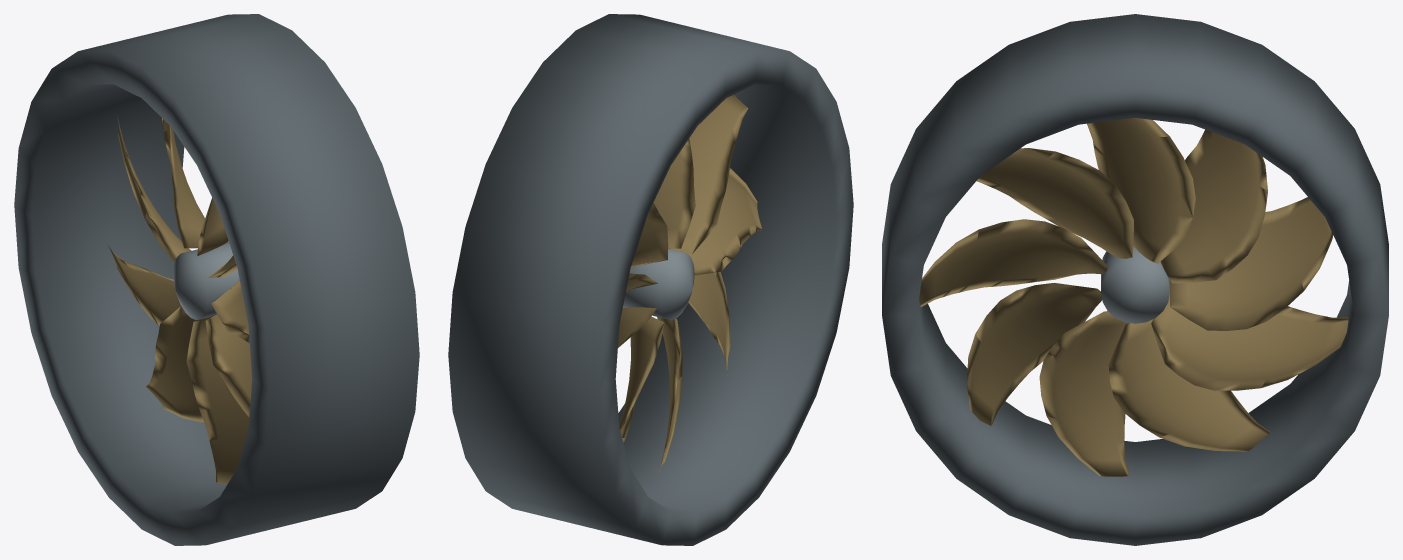
File: THRUSTER_RIM_DRIVEN_LOD1.fbx
3 renders of one model, left to right at view 1: azimuth 30°, elevation 25°; view 2: azimuth 150°, elevation 25°; view 3: azimuth 270°, elevation 25°, orthographic.
Parts seen in each view (by area): view 1: THRUSTER_RIM_DRIVEN_LOD1_Duct.001, THRUSTER_RIM_DRIVEN_LOD1_Impeller_06.001, THRUSTER_RIM_DRIVEN_LOD1_Impeller_07.001, THRUSTER_RIM_DRIVEN_LOD1_Hub.001, THRUSTER_RIM_DRIVEN_LOD1_Impeller_05.001, THRUSTER_RIM_DRIVEN_LOD1_Impeller_08.001, THRUSTER_RIM_DRIVEN_LOD1_Impeller_01.001, THRUSTER_RIM_DRIVEN_LOD1_Impeller_00.001, THRUSTER_RIM_DRIVEN_LOD1_Impeller_04.001, THRUSTER_RIM_DRIVEN_LOD1_Impeller_02.001; view 2: THRUSTER_RIM_DRIVEN_LOD1_Duct.001, THRUSTER_RIM_DRIVEN_LOD1_Impeller_03.001, THRUSTER_RIM_DRIVEN_LOD1_Impeller_04.001, THRUSTER_RIM_DRIVEN_LOD1_Hub.001, THRUSTER_RIM_DRIVEN_LOD1_Impeller_02.001, THRUSTER_RIM_DRIVEN_LOD1_Impeller_05.001, THRUSTER_RIM_DRIVEN_LOD1_Impeller_07.001, THRUSTER_RIM_DRIVEN_LOD1_Impeller_06.001, THRUSTER_RIM_DRIVEN_LOD1_Impeller_01.001, THRUSTER_RIM_DRIVEN_LOD1_Impeller_08.001; view 3: THRUSTER_RIM_DRIVEN_LOD1_Duct.001, THRUSTER_RIM_DRIVEN_LOD1_Impeller_08.001, THRUSTER_RIM_DRIVEN_LOD1_Impeller_00.001, THRUSTER_RIM_DRIVEN_LOD1_Impeller_07.001, THRUSTER_RIM_DRIVEN_LOD1_Impeller_01.001, THRUSTER_RIM_DRIVEN_LOD1_Impeller_06.001, THRUSTER_RIM_DRIVEN_LOD1_Impeller_05.001, THRUSTER_RIM_DRIVEN_LOD1_Impeller_02.001, THRUSTER_RIM_DRIVEN_LOD1_Impeller_04.001, THRUSTER_RIM_DRIVEN_LOD1_Impeller_03.001, THRUSTER_RIM_DRIVEN_LOD1_Hub.001.
Part boxes in pixels (x1,y1,x2,y2): THRUSTER_RIM_DRIVEN_LOD1_Duct.001: [14, 14, 419, 545]; THRUSTER_RIM_DRIVEN_LOD1_Impeller_06.001: [186, 317, 249, 484]; THRUSTER_RIM_DRIVEN_LOD1_Impeller_07.001: [145, 306, 213, 422]; THRUSTER_RIM_DRIVEN_LOD1_Hub.001: [173, 241, 239, 319]; THRUSTER_RIM_DRIVEN_LOD1_Impeller_05.001: [205, 314, 252, 417]; THRUSTER_RIM_DRIVEN_LOD1_Impeller_08.001: [107, 243, 181, 325]; THRUSTER_RIM_DRIVEN_LOD1_Impeller_01.001: [162, 118, 204, 248]; THRUSTER_RIM_DRIVEN_LOD1_Impeller_00.001: [117, 115, 191, 261]; THRUSTER_RIM_DRIVEN_LOD1_Impeller_04.001: [211, 279, 249, 342]; THRUSTER_RIM_DRIVEN_LOD1_Impeller_02.001: [197, 198, 228, 255]; THRUSTER_RIM_DRIVEN_LOD1_Duct.001: [448, 14, 853, 545]; THRUSTER_RIM_DRIVEN_LOD1_Impeller_03.001: [670, 94, 748, 254]; THRUSTER_RIM_DRIVEN_LOD1_Impeller_04.001: [688, 168, 762, 275]; THRUSTER_RIM_DRIVEN_LOD1_Hub.001: [623, 249, 694, 319]; THRUSTER_RIM_DRIVEN_LOD1_Impeller_02.001: [653, 138, 695, 248]; THRUSTER_RIM_DRIVEN_LOD1_Impeller_05.001: [688, 272, 730, 375]; THRUSTER_RIM_DRIVEN_LOD1_Impeller_07.001: [619, 316, 664, 442]; THRUSTER_RIM_DRIVEN_LOD1_Impeller_06.001: [657, 317, 682, 476]; THRUSTER_RIM_DRIVEN_LOD1_Impeller_01.001: [630, 202, 668, 268]; THRUSTER_RIM_DRIVEN_LOD1_Impeller_08.001: [618, 307, 656, 347]; THRUSTER_RIM_DRIVEN_LOD1_Duct.001: [882, 14, 1388, 545]; THRUSTER_RIM_DRIVEN_LOD1_Impeller_08.001: [1151, 293, 1348, 390]; THRUSTER_RIM_DRIVEN_LOD1_Impeller_00.001: [1170, 197, 1333, 330]; THRUSTER_RIM_DRIVEN_LOD1_Impeller_07.001: [1108, 319, 1270, 451]; THRUSTER_RIM_DRIVEN_LOD1_Impeller_01.001: [1160, 129, 1267, 283]; THRUSTER_RIM_DRIVEN_LOD1_Impeller_06.001: [1039, 311, 1129, 476]; THRUSTER_RIM_DRIVEN_LOD1_Impeller_05.001: [966, 283, 1102, 425]; THRUSTER_RIM_DRIVEN_LOD1_Impeller_02.001: [1087, 118, 1195, 263]; THRUSTER_RIM_DRIVEN_LOD1_Impeller_04.001: [919, 219, 1108, 306]; THRUSTER_RIM_DRIVEN_LOD1_Impeller_03.001: [976, 148, 1133, 258]; THRUSTER_RIM_DRIVEN_LOD1_Hub.001: [1101, 246, 1169, 323].
Size of the model in its own units: 55 by 162 by 162.
